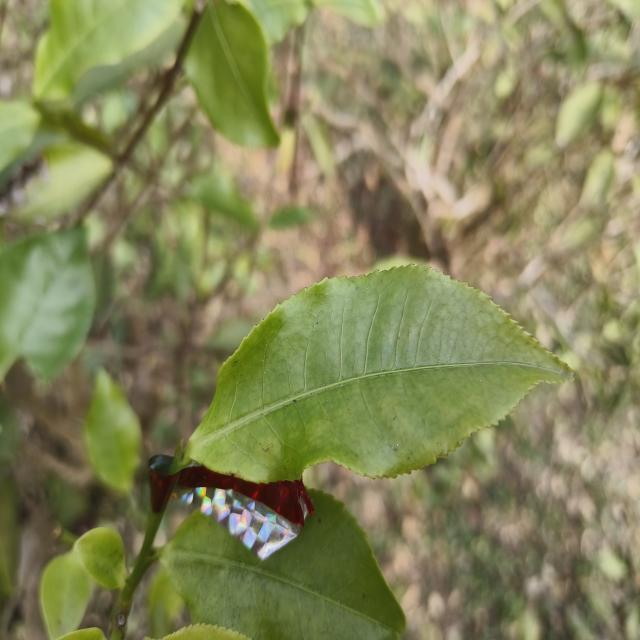Leaf: (186, 266, 572, 482), (161, 490, 405, 640), (33, 0, 183, 101), (0, 228, 96, 380), (184, 0, 279, 146), (0, 142, 112, 221), (85, 369, 141, 493), (40, 551, 92, 640), (192, 166, 257, 230), (74, 527, 127, 589), (555, 82, 603, 148), (239, 0, 307, 45), (0, 100, 40, 172)
